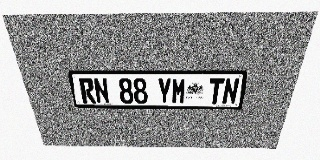8: (118, 78, 134, 104), (133, 78, 148, 104)
M: (172, 78, 186, 104)
N: (222, 78, 240, 104), (93, 78, 110, 103)
R: (78, 78, 96, 103)
T: (207, 78, 225, 104)
Y: (157, 78, 172, 104)
